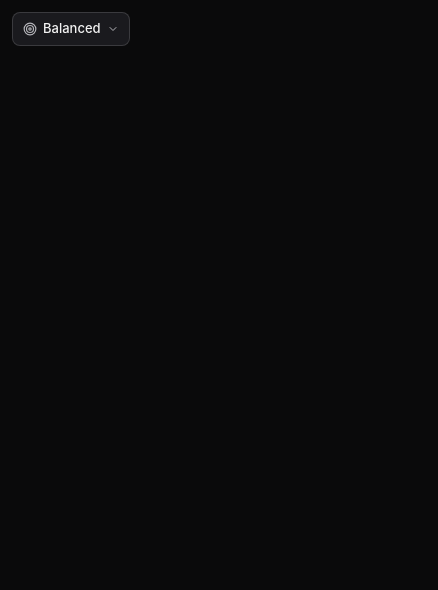
Test case: GoalPicker › puts the goal in the effort control's footprint and the shapes under This message
Click the button with aria-label "Orchestrator goal". click: {"x": 71, "y": 29}
box: top-left (12, 12), bottom-right (130, 46)
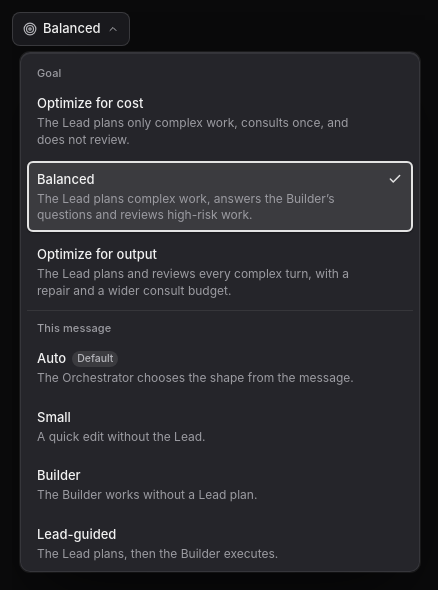
Result: the list named "Orchestrator goal" is shown
Result: the text "Goal" is shown at top-left (37, 66), bottom-right (61, 80)
Result: the text "This message" is shown at top-left (27, 310), bottom-right (413, 340)
